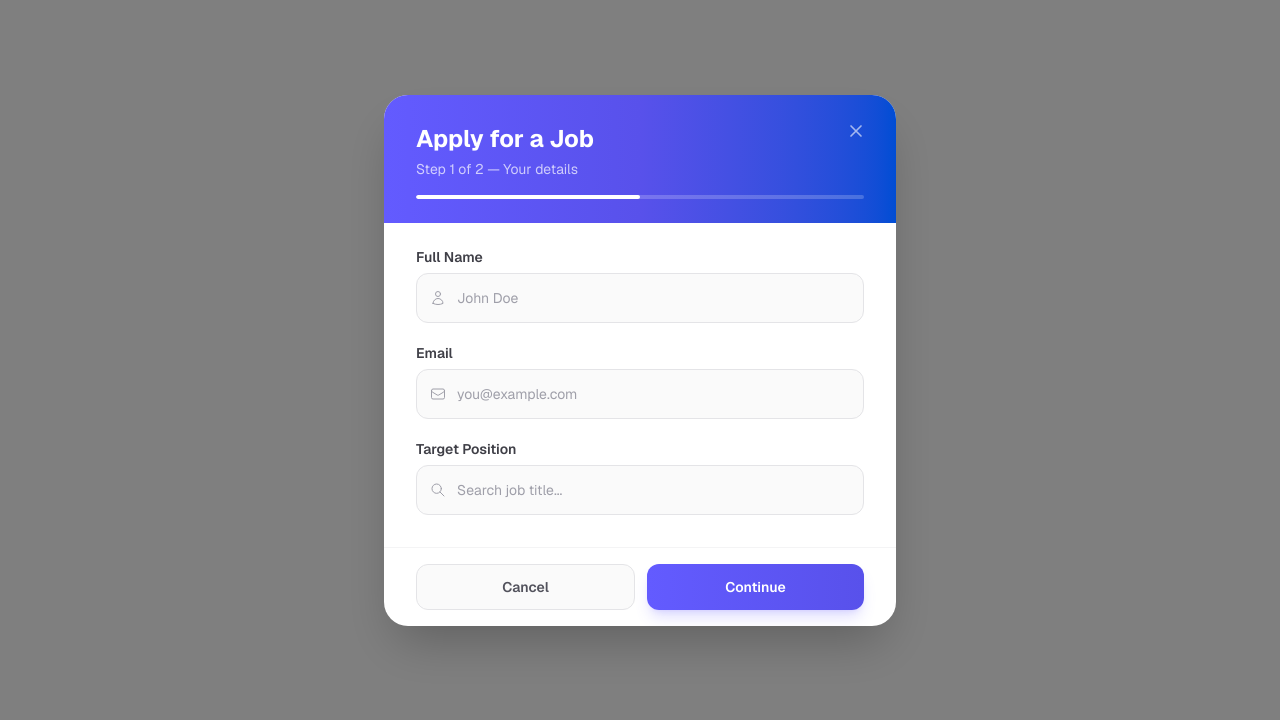
ApplyModal › shows validation errors when continuing with empty fields
This screenshot has width=1280, height=720.
What coordinates should you click on to do the following:
click the button "Continue"
I would click on:
 (756, 586)
Its box is [647,564,864,610].
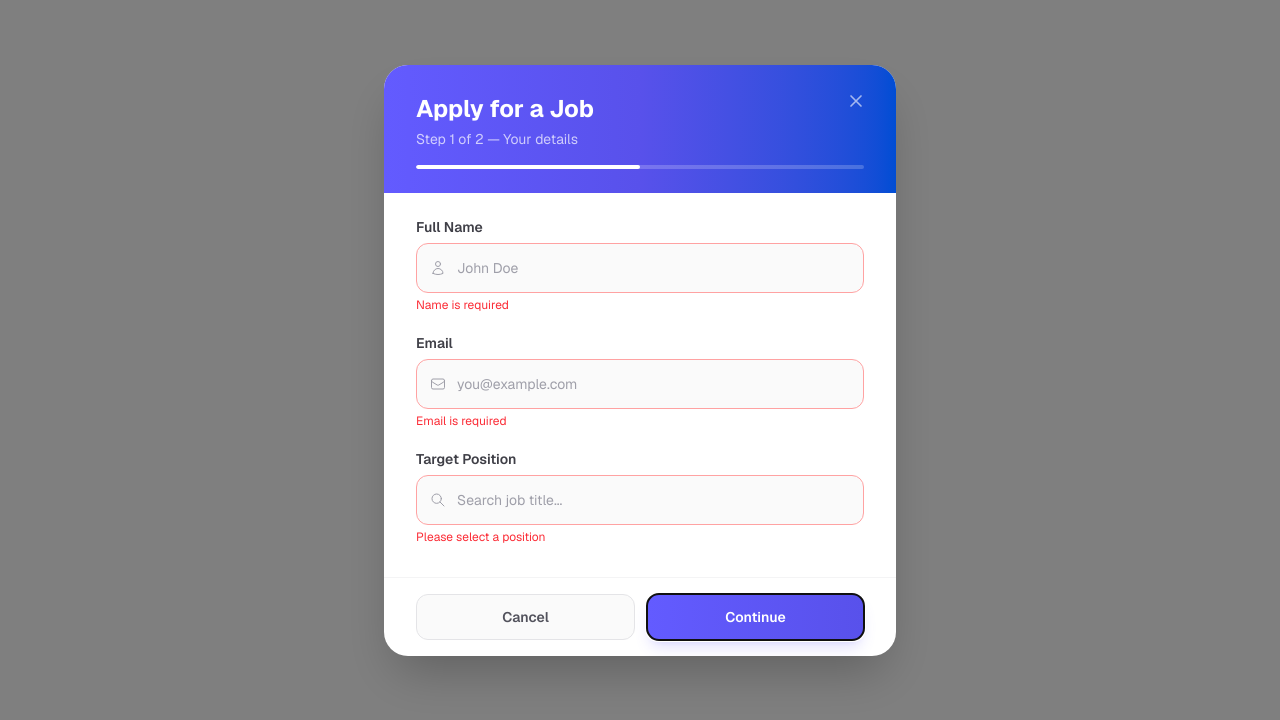
Now the text "Name is required" is shown, box [416,296,509,312]
Now the text "Email is required" is shown, box [416,412,507,428]
Now the text "Please select a position" is shown, box [416,528,546,544]
